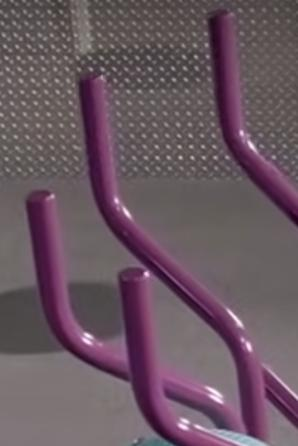algae: (125, 429, 271, 446)
